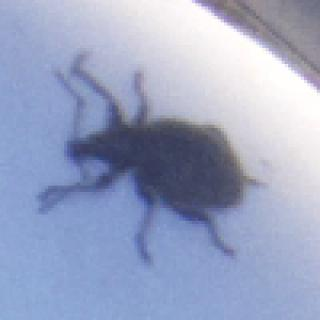bvw: (35, 49, 273, 274)
